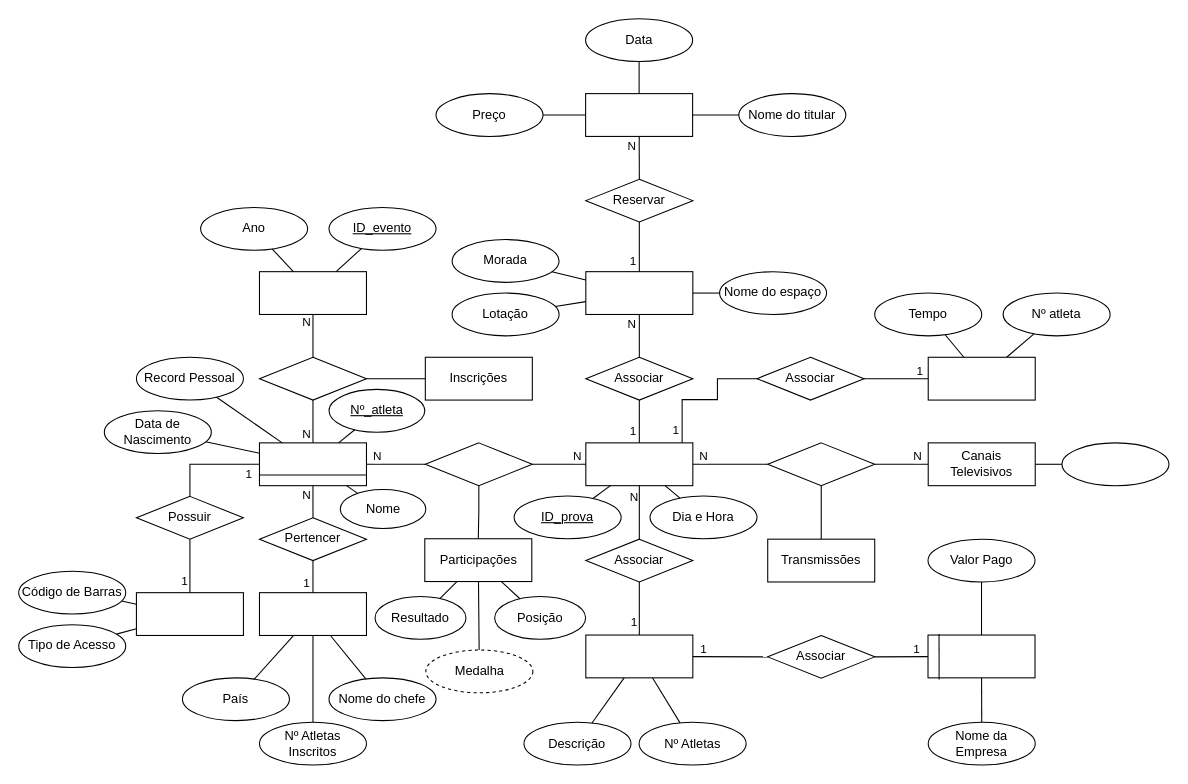
The diagram is 1188 pixels wide and 784 high, and some of its shapes have lost their labels. Here are the shapes that lost their labels. From the top down, the centre of each, then its label:
At (x=639, y=114): "Bilhetes".
At (x=312, y=292): "Jogos Olímpicos".
At (x=639, y=292): "Locais".
At (x=312, y=378): "Inscrever".
At (x=981, y=378): "Records".
At (x=312, y=464): "Atletas".
At (x=478, y=464): "Disputar".
At (x=639, y=464): "Provas".
At (x=821, y=464): "Transmitir".
At (x=1115, y=464): "ID_Canal".
At (x=189, y=613): "Credenciais".
At (x=312, y=613): "Delegações".
At (x=639, y=656): "Modalidades".
At (x=981, y=656): "Patrocinadores".
